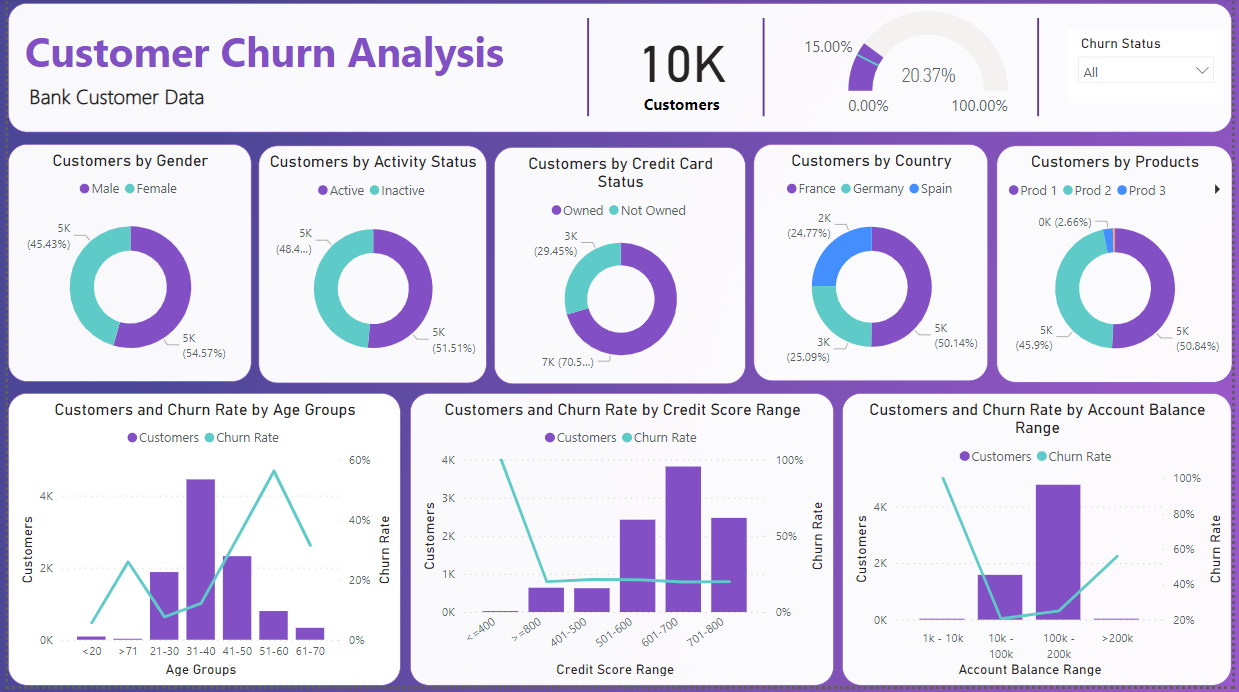

The page's visual inventory and layout, read from the dashboard file:
{"tool":"powerbi","page":{"name":"Page 1","canvas":[1280,720],"ordinal":0},"visuals":[{"type":"shape","box":[0,5.6,1279.7,135.1],"z":0},{"type":"card","fields":{"Values":["Customer Data.Customers"]},"box":[595.4,11.3,216.1,124.9],"z":1000},{"type":"donutChart","fields":{"Category":["Customer Data.Gender"],"Y":["Customer Data.Customers"]},"box":[0,154.2,254.4,248.7],"z":2000},{"type":"donutChart","fields":{"Y":["Customer Data.Customers"],"Category":["Customer Data.Activity Status"]},"box":[262.3,155.3,238.6,248.7],"z":3000},{"type":"donutChart","fields":{"Y":["Customer Data.Customers"],"Category":["Customer Data.Credit Card Status"]},"box":[508.7,156.5,263.4,248],"z":4000},{"type":"donutChart","fields":{"Y":["Customer Data.Customers"],"Category":["Customer Data.Country"]},"box":[780,154.2,245.4,248],"z":5000},{"type":"donutChart","fields":{"Y":["Customer Data.Customers"],"Category":["Customer Data.Products"]},"box":[1033.3,155.3,246.5,248],"z":6000},{"type":"lineClusteredColumnComboChart","fields":{"Y":["Customer Data.Customers"],"Y2":["Customer Data.Churn Rate"],"Category":["Age groups ID.Age Groups"]},"box":[0,414.2,410.8,306.1],"z":7000},{"type":"lineClusteredColumnComboChart","fields":{"Y":["Customer Data.Customers"],"Y2":["Customer Data.Churn Rate"],"Category":["Credit Score ID.Credit Score Range"]},"box":[421,414.2,443.5,306.1],"z":8000},{"type":"lineClusteredColumnComboChart","fields":{"Y":["Customer Data.Customers"],"Y2":["Customer Data.Churn Rate"],"Category":["Account Balance ID.Account Balance Range"]},"box":[872.3,414.2,407.4,306.1],"z":9000},{"type":"slicer","fields":{"Values":["Customer Data.Churn Status"]},"box":[1108.7,34.9,162.1,76.5],"z":10000},{"type":"gauge","fields":{"Y":["Customer Data.Churn Rate"],"MaxValue":["Max(Customer Data.Max Churn rate)"],"MinValue":["Min(Customer Data.Min Churn Rate)"],"TargetValue":["Avg(Customer Data.Target Churn Rate)"]},"box":[791.3,10.1,294.9,124.9],"z":11000},{"type":"textbox","box":[12.4,22.5,565,79.9],"z":12000},{"type":"textbox","box":[17,83,257.8,41.6],"z":13000},{"type":"shape","box":[544.8,22.5,124.9,102.4],"z":13001},{"type":"shape","box":[728.2,21.4,124.9,102.4],"z":13002},{"type":"shape","box":[1014.1,21.4,124.9,102.4],"z":13003}]}

Visuals, with their boxes in screenshot pixels (x1, y1, x2, y2), scaled from the page's 1280x720 canvas onto the 1239x692 screenshot:
shape: l=0, t=5, r=1238, b=135
card - Customer Data.Customers: l=576, t=11, r=786, b=131
donutChart - Customer Data.Gender x Customer Data.Customers: l=0, t=148, r=246, b=387
donutChart - Customer Data.Customers x Customer Data.Activity Status: l=254, t=149, r=485, b=388
donutChart - Customer Data.Customers x Customer Data.Credit Card Status: l=492, t=150, r=747, b=389
donutChart - Customer Data.Customers x Customer Data.Country: l=755, t=148, r=993, b=387
donutChart - Customer Data.Customers x Customer Data.Products: l=1000, t=149, r=1238, b=388
lineClusteredColumnComboChart - Customer Data.Customers x Customer Data.Churn Rate: l=0, t=398, r=398, b=691
lineClusteredColumnComboChart - Customer Data.Customers x Customer Data.Churn Rate: l=408, t=398, r=837, b=691
lineClusteredColumnComboChart - Customer Data.Customers x Customer Data.Churn Rate: l=844, t=398, r=1238, b=691
slicer - Customer Data.Churn Status: l=1073, t=34, r=1230, b=107
gauge - Customer Data.Churn Rate x Max(Customer Data.Max Churn rate): l=766, t=10, r=1051, b=130
textbox: l=12, t=22, r=559, b=98
textbox: l=16, t=80, r=266, b=120
shape: l=527, t=22, r=648, b=120
shape: l=705, t=21, r=826, b=119
shape: l=982, t=21, r=1103, b=119
